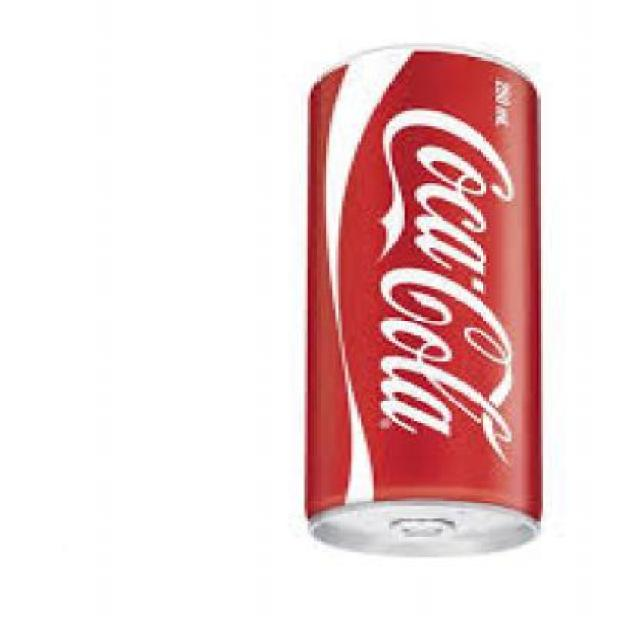METAL: (305, 46, 546, 563)
